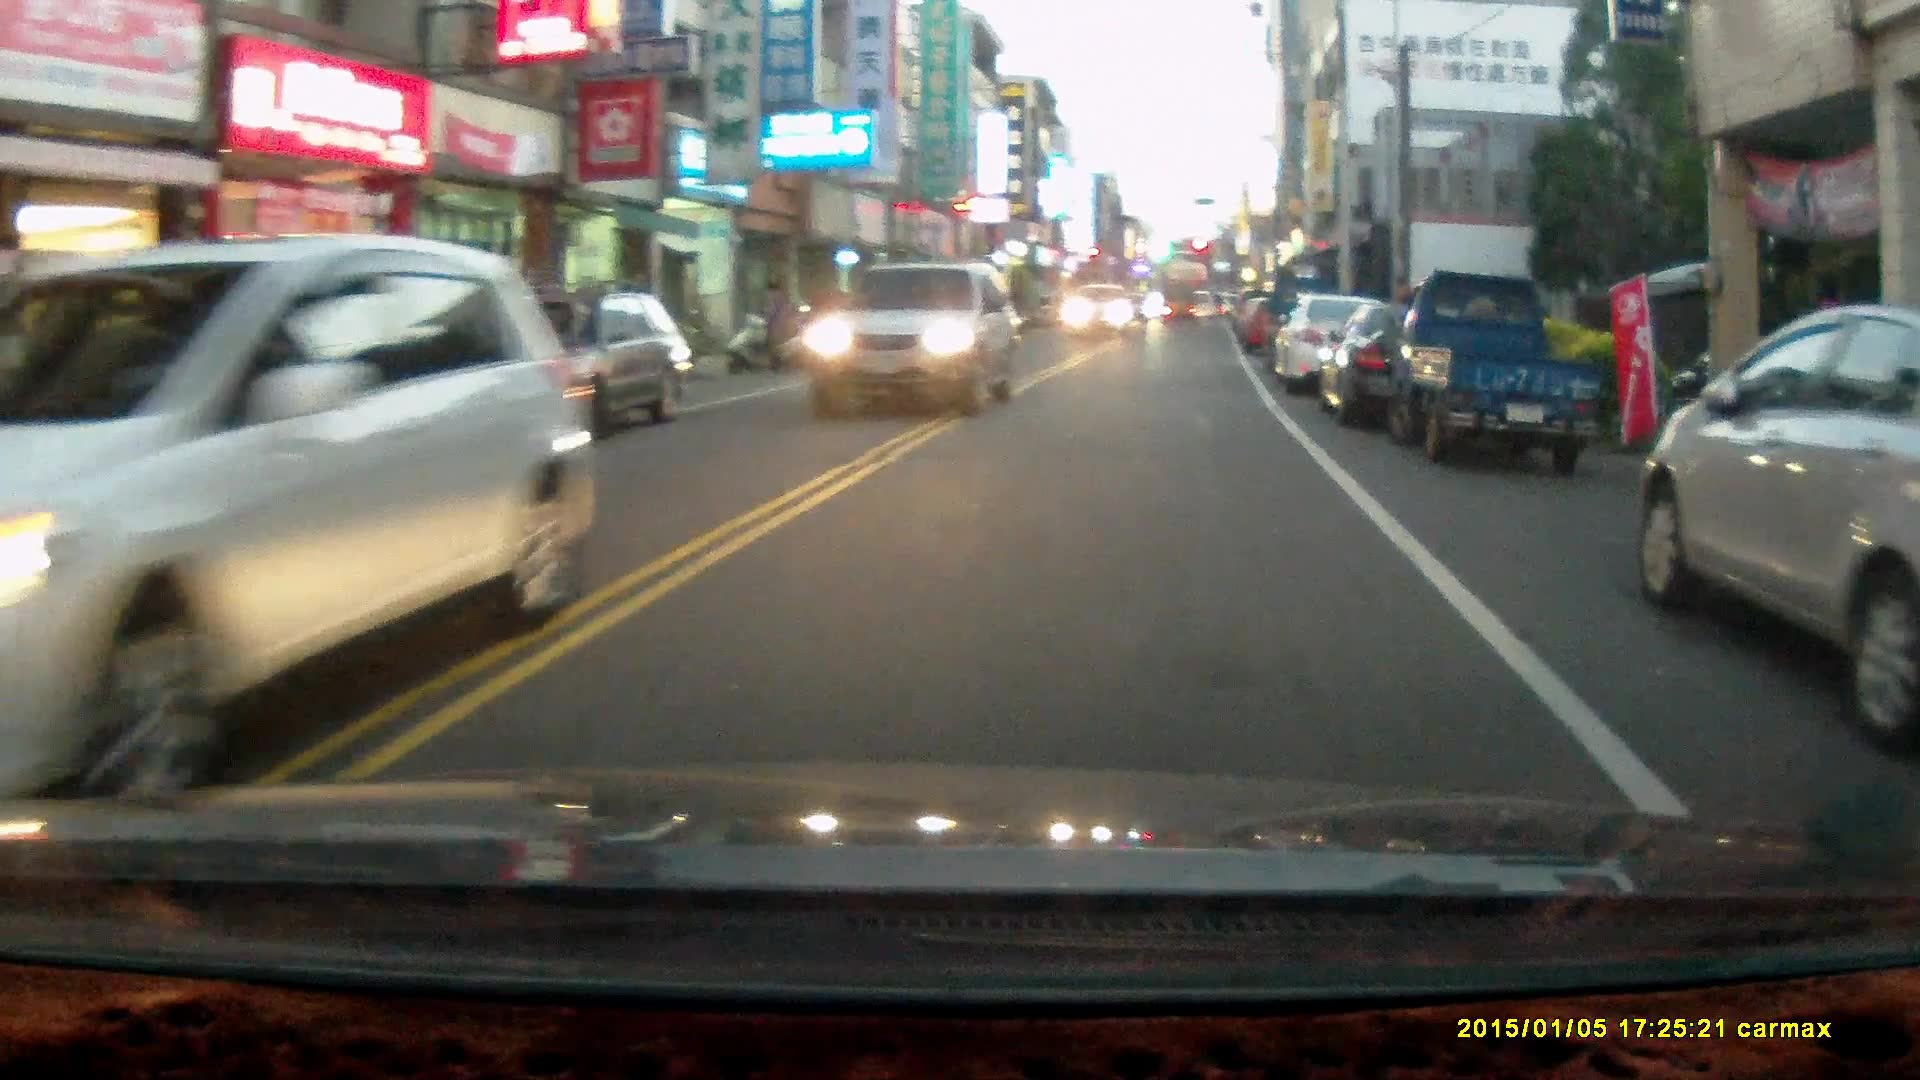pedestrian: (763, 279, 789, 370)
vehicle: (1, 235, 607, 802), (1631, 307, 1920, 710), (1383, 269, 1615, 480), (425, 296, 690, 455), (801, 267, 1022, 424), (1318, 297, 1519, 433), (1267, 292, 1421, 402), (1062, 285, 1144, 347)
